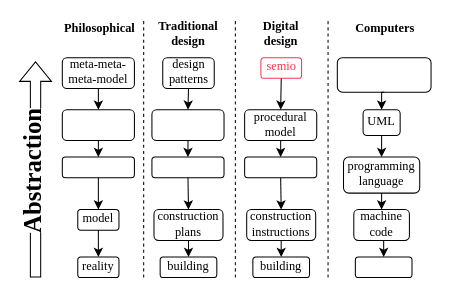
This 449x297 diagram has some shape labels left out. The box of each missing label's shape, as (x1, y1, x2, y2) in pixels:
architectural concept: (151, 109, 224, 141)
BIM model: (244, 156, 317, 178)
design plans: (151, 156, 224, 178)
hardware: (354, 256, 412, 278)
meta-meta-model: (61, 109, 134, 141)
meta-model: (61, 156, 134, 178)
software design patterns: (336, 57, 431, 92)
